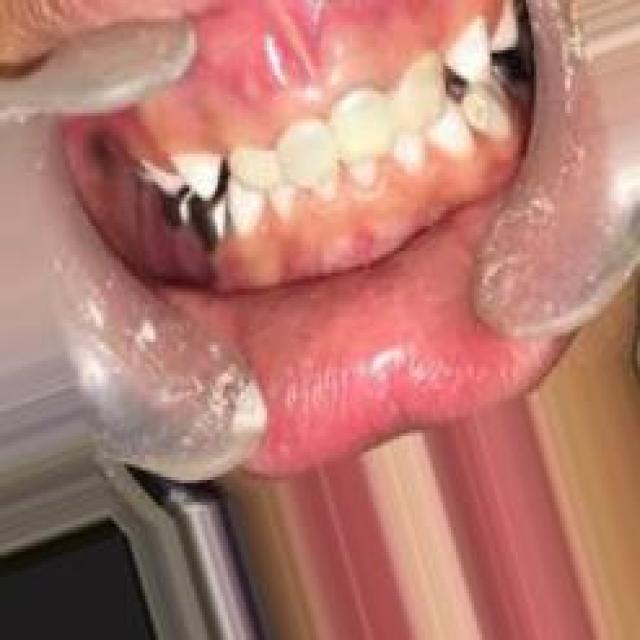caries: (173, 191, 236, 258), (438, 53, 476, 108)
